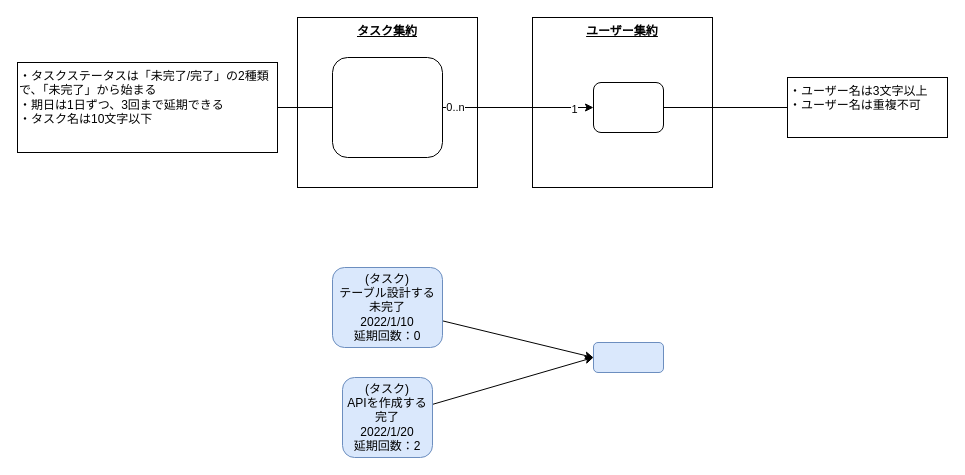
The diagram is 965 pixels wide and 475 high, and some of its shapes have lost their labels. Here are the shapes that lost their labels. From the top down, the centre of each, then its label:
point (387, 107): タスク (Task) タスク名 タスクステータス 期日 延期回数 担当ユーザーID
point (628, 107): ユーザー (User) ユーザー名
point (628, 357): (ユーザー) 小林
